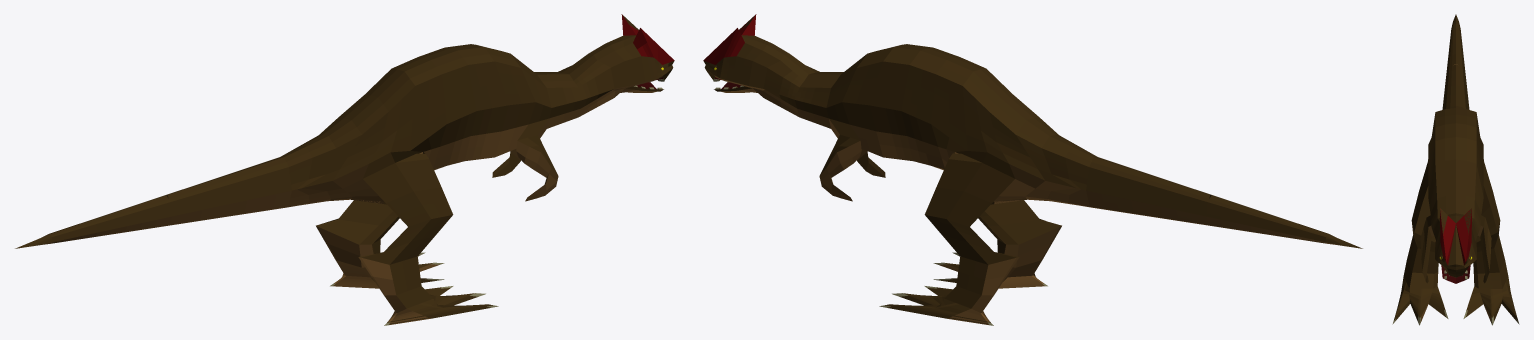
Rendered from Dinosaur.fbx.
3 renders of one model, left to right at view 1: azimuth 30°, elevation 25°; view 2: azimuth 150°, elevation 25°; view 3: azimuth 270°, elevation 25°, orthographic. The views are drawn at different scales.
Parts seen in each view (by area): view 1: Cube; view 2: Cube; view 3: Cube.
Part boxes in pixels (box(x1,y1,x2,y2)): Cube: box(15, 14, 674, 325); Cube: box(703, 14, 1362, 325); Cube: box(1392, 14, 1519, 325).
Bounding box in the file's own units: 3407 × 1146 × 660.
